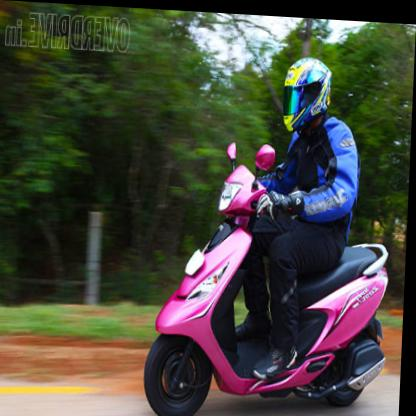With Helmet: (277, 47, 337, 132)
